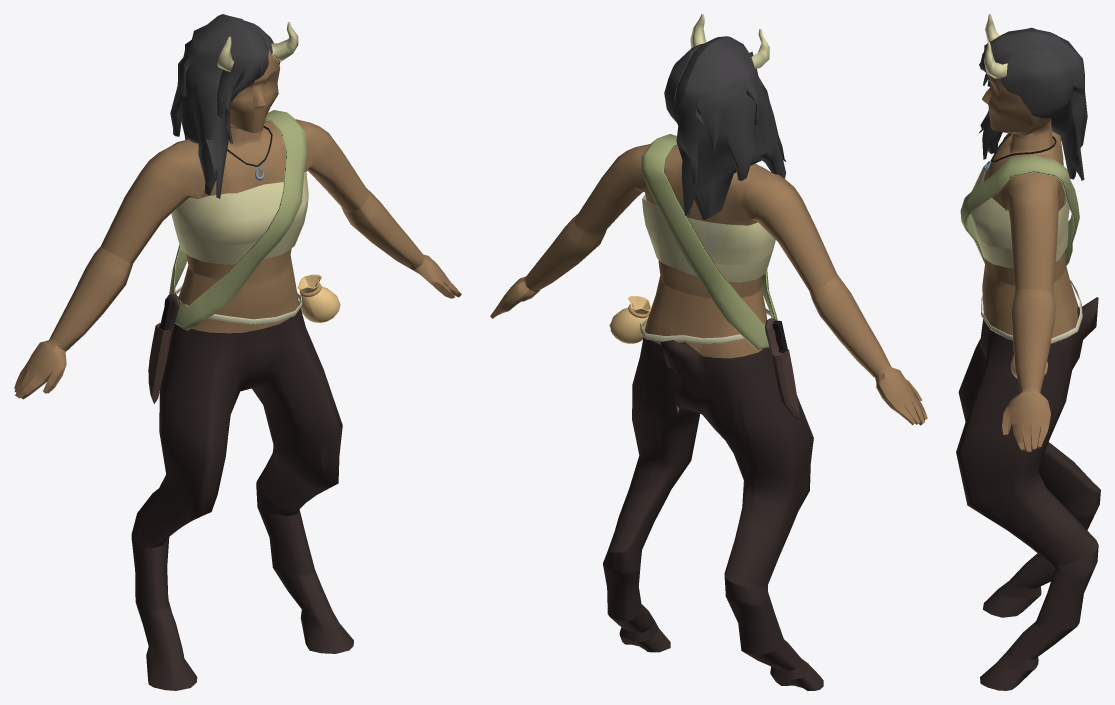
File: pc_sailor_noanim.fbx
The picture shows the model from 3 angles, left to right: view 1: azimuth 30°, elevation 25°; view 2: azimuth 150°, elevation 25°; view 3: azimuth 270°, elevation 25°; orthographic projection. The views are drawn at different scales.
Visible parts, largest first — view 1: body2, hair, top1, sash1, knife, pouch; view 2: body2, hair, sash1, top1, knife, pouch, belt; view 3: body2, hair, sash1, top1, belt, necklace.
Part boxes in pixels (box(x1,y1,x2,y2)): body2: box(14, 22, 461, 690); hair: box(170, 14, 280, 198); top1: box(171, 171, 308, 264); sash1: box(169, 110, 306, 330); knife: box(148, 294, 179, 403); pouch: box(297, 274, 340, 322); body2: box(490, 14, 927, 690); hair: box(664, 36, 785, 219); sash1: box(641, 134, 777, 349); top1: box(642, 194, 775, 282); knife: box(765, 318, 800, 420); pouch: box(609, 296, 651, 343); belt: box(640, 308, 772, 343); body2: box(956, 14, 1100, 690); hair: box(979, 27, 1087, 180); sash1: box(960, 155, 1079, 265); top1: box(970, 165, 1069, 268); belt: box(981, 280, 1082, 343); necklace: box(983, 133, 1056, 171).
Bounding box in the file's own units: 23.94 × 33.38 × 7.12.
